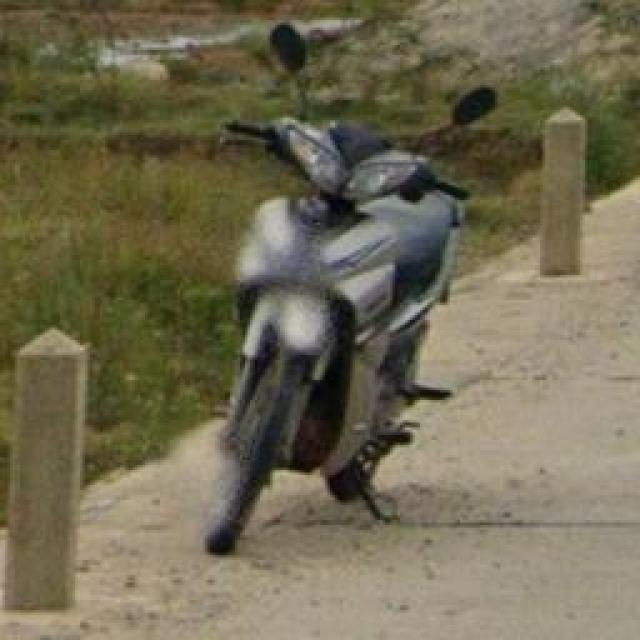motorbike: (198, 69, 492, 564)
